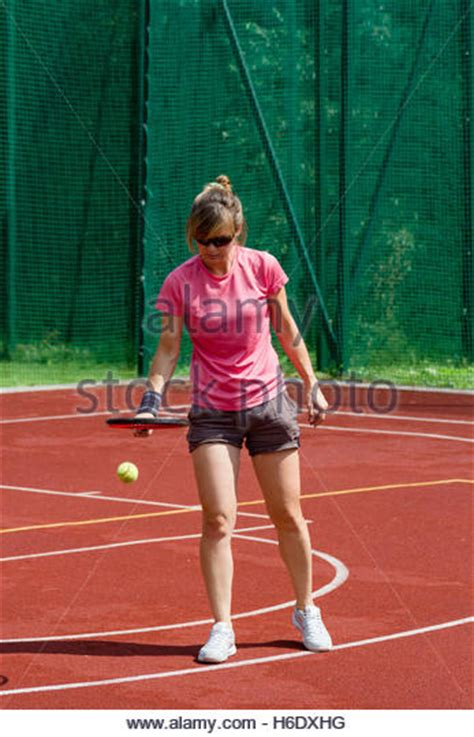tennis_ball: (117, 461, 138, 483)
